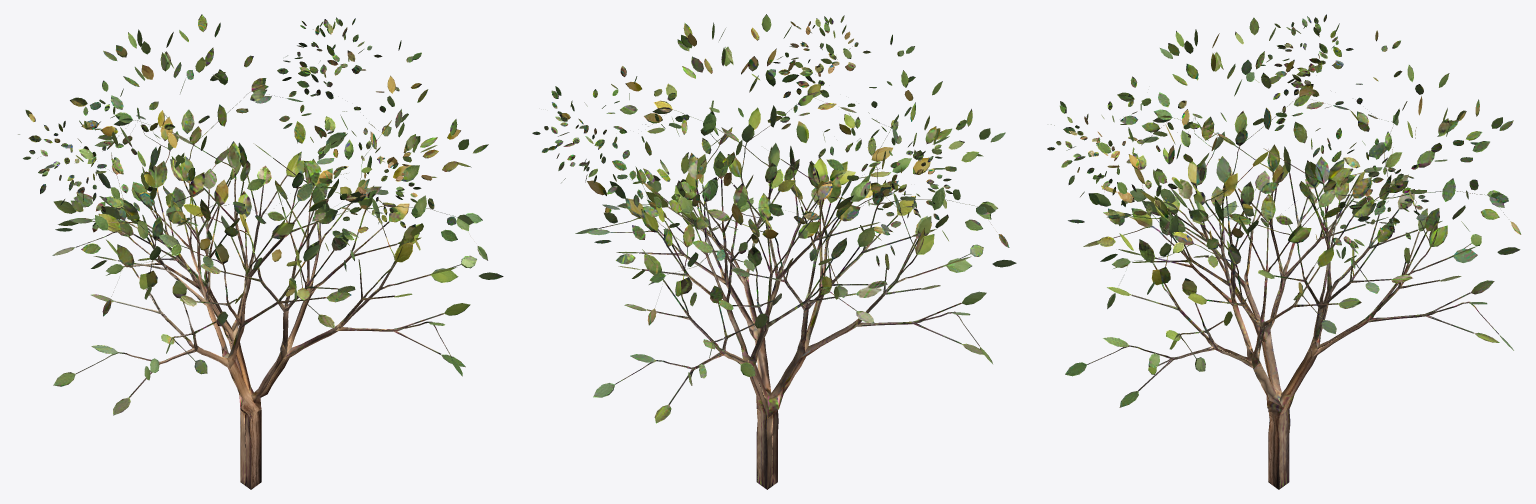
The model's file is parcFloorTree.glb.
3 views of the same model, side by side, from view 1: azimuth 30°, elevation 25°; view 2: azimuth 150°, elevation 25°; view 3: azimuth 270°, elevation 25° (orthographic).
Visible parts, largest first — view 1: Mesh_0; view 2: Mesh_0; view 3: Mesh_0.
Boxes of the visible parts, box(x1,y1,x2,y2) form: Mesh_0: box(18, 14, 503, 489); Mesh_0: box(532, 14, 1016, 489); Mesh_0: box(1047, 14, 1521, 489).
Bounding box in the file's own units: 1.74 × 1.67 × 1.78.
Materials: 1 (1 with a texture image).
